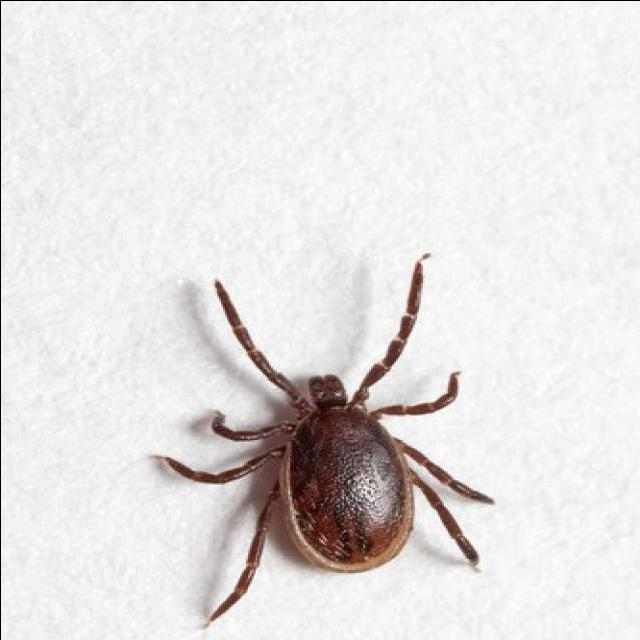Ixodes Ricinus-M: (150, 250, 498, 625)
